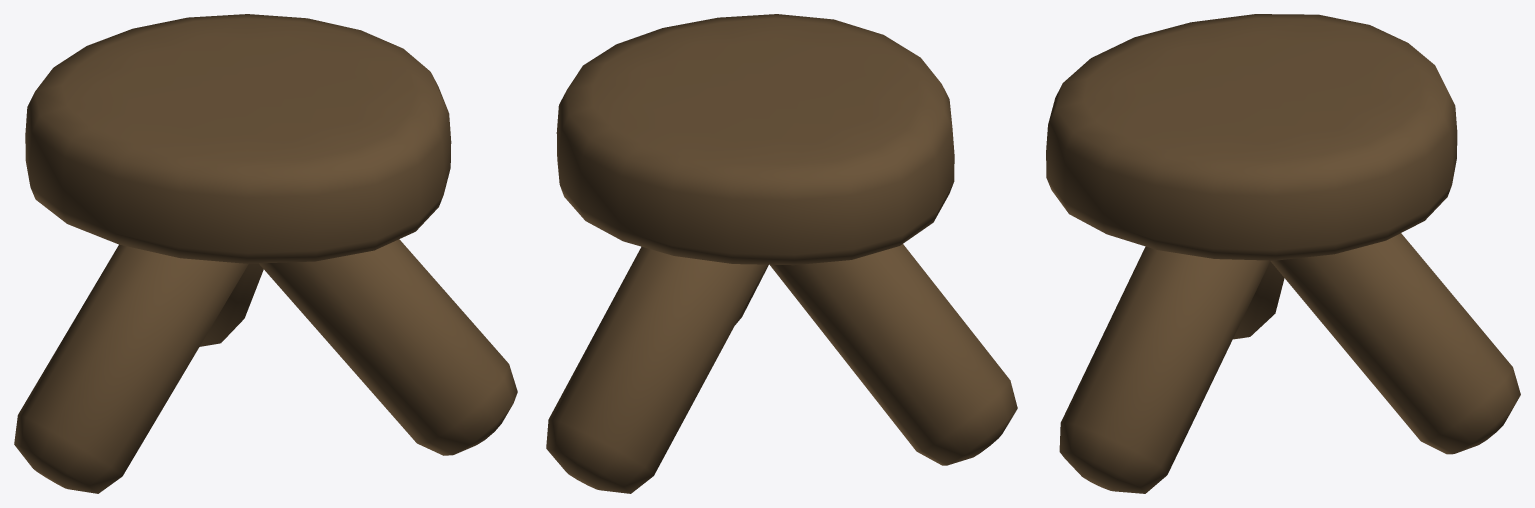
The model's file is Stool.fbx.
The picture shows the model from 3 angles, left to right: view 1: azimuth 30°, elevation 25°; view 2: azimuth 150°, elevation 25°; view 3: azimuth 270°, elevation 25°; orthographic projection. The views are drawn at different scales.
Parts seen in each view (by area): view 1: Stool; view 2: Stool; view 3: Stool.
Part boxes in pixels (box(x1,y1,x2,y2)): Stool: box(14, 14, 517, 493); Stool: box(546, 14, 1017, 493); Stool: box(1046, 14, 1520, 493).
Bounding box in the file's own units: 0.5939 × 0.4516 × 0.5768.
